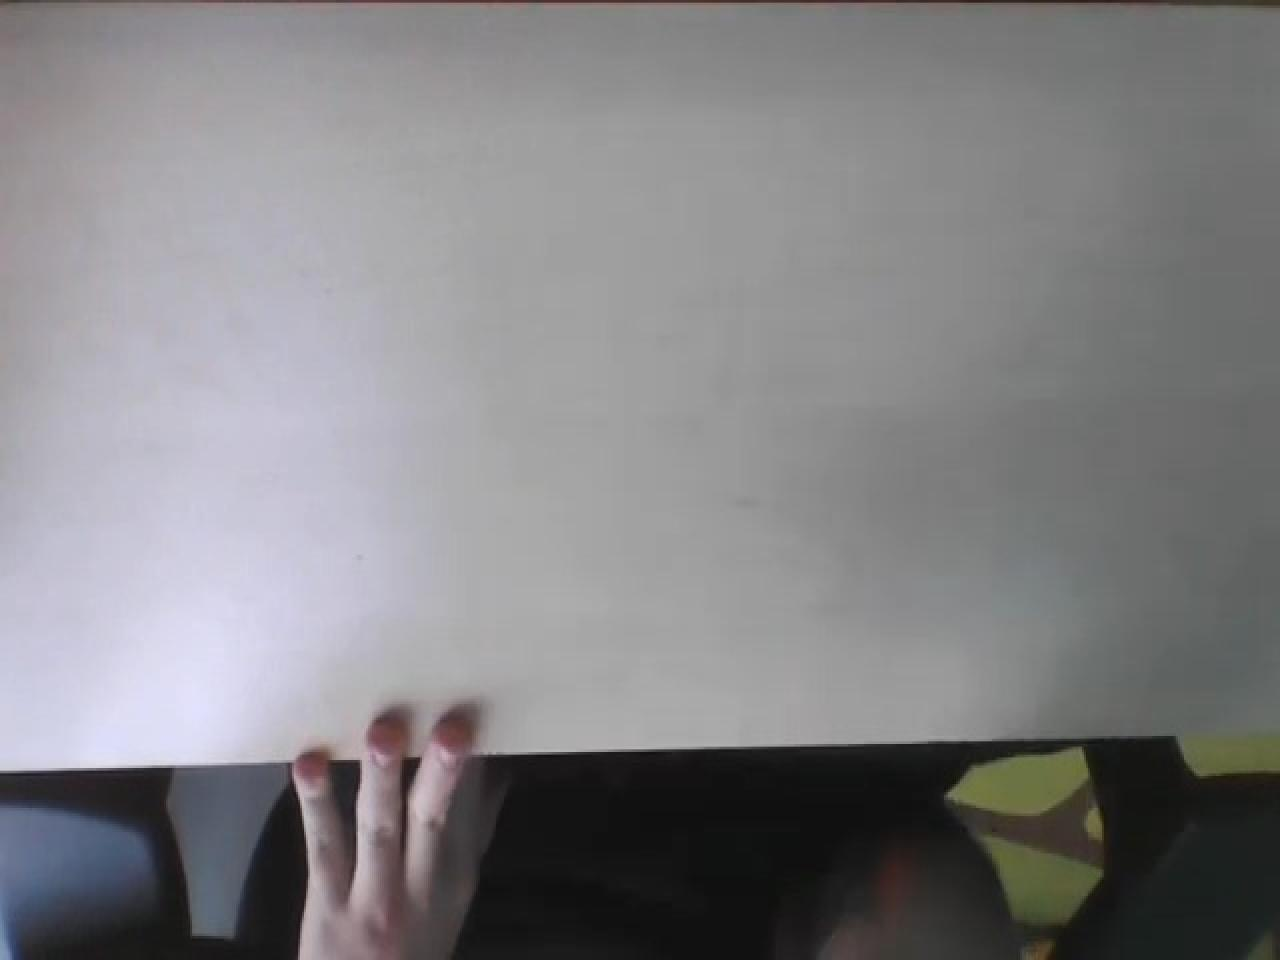100leva: (2, 8, 1276, 782), (4, 717, 1274, 960)
